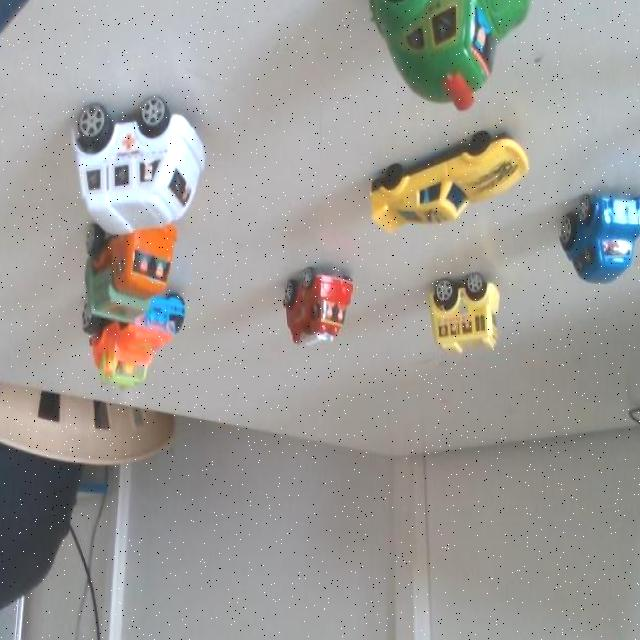car: (80, 70, 232, 256), (384, 117, 520, 243), (389, 0, 549, 101), (110, 287, 196, 396), (278, 247, 357, 361), (422, 257, 510, 359), (104, 212, 172, 331), (573, 183, 640, 287)
